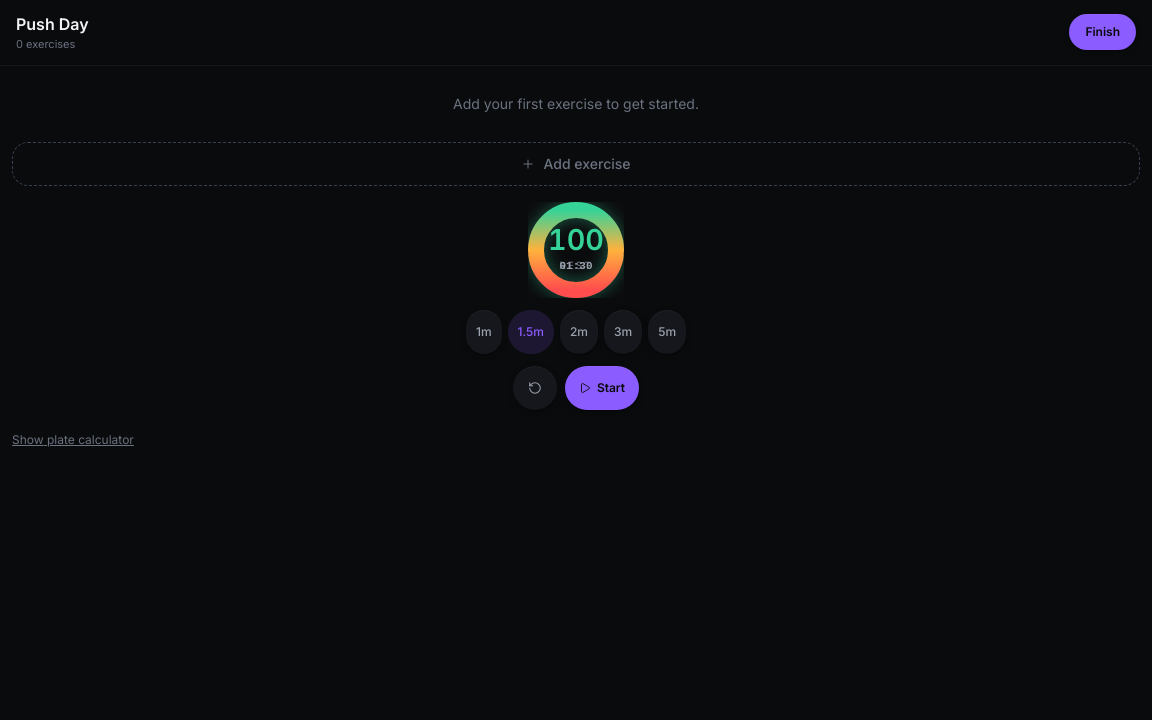
Scenario: ActiveWorkout › opens the exercise picker when Add exercise is clicked
Click the button with test id "add-exercise-btn".
click(576, 164)  # box x1=12 y1=142 x2=1140 y2=186
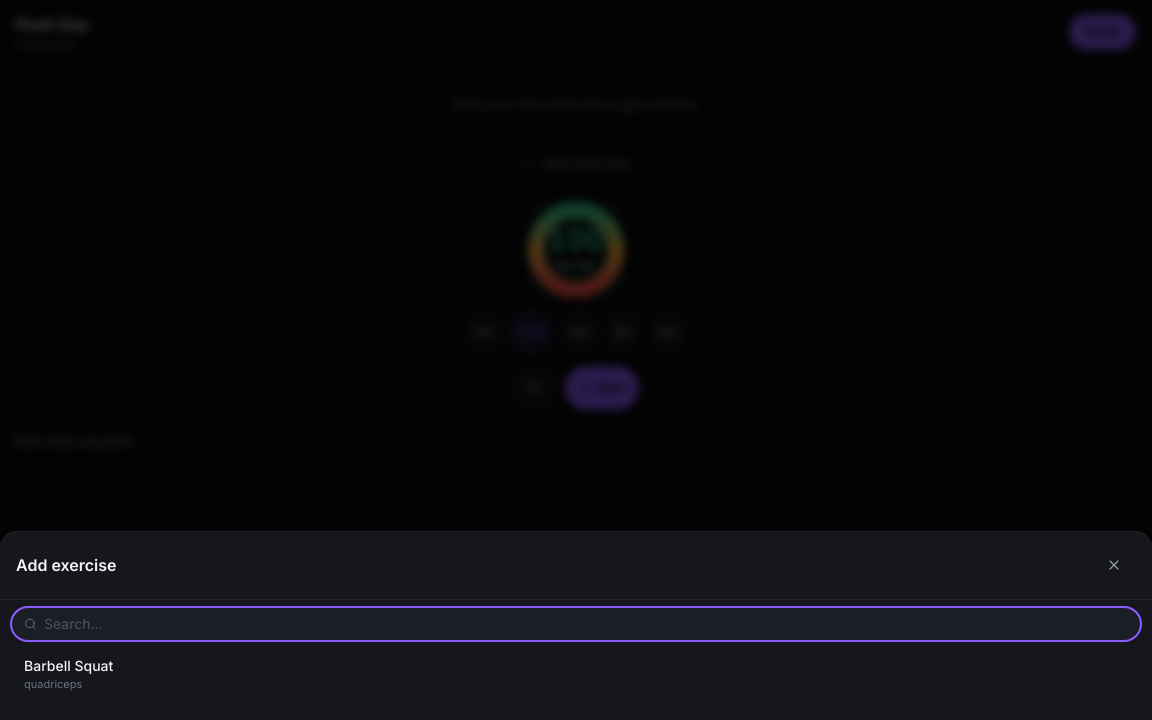
Now the dialog with test id "exercise-picker" is shown
